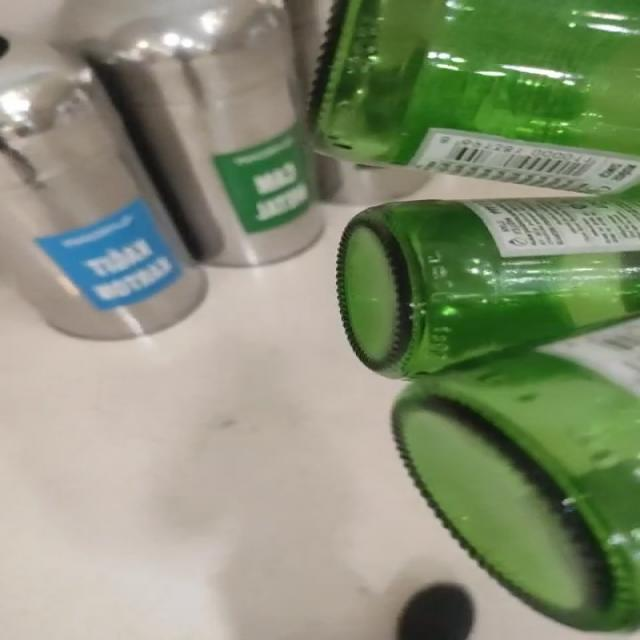glass: (312, 0, 640, 632)
